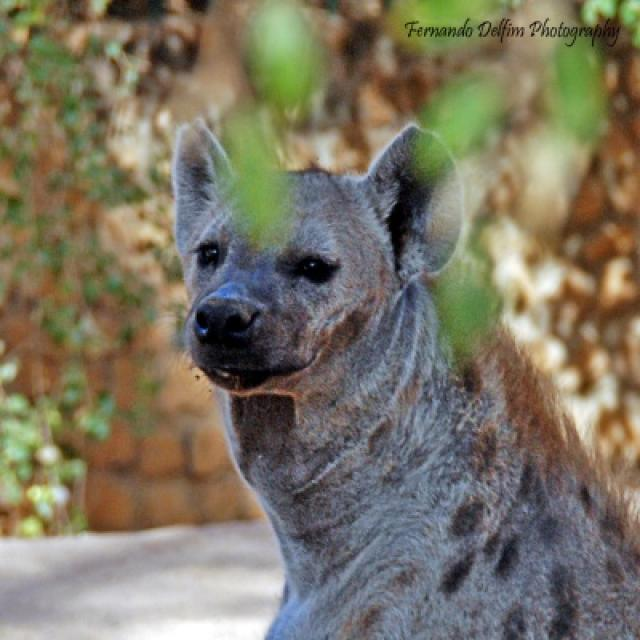hyena: (173, 120, 638, 638)
